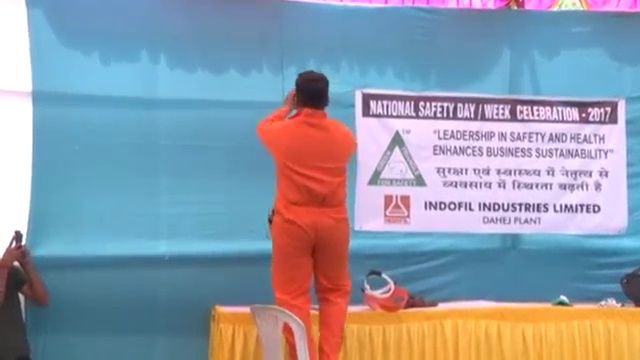helmet_off: (292, 69, 330, 112)
person: (256, 64, 362, 360), (1, 228, 46, 360)
